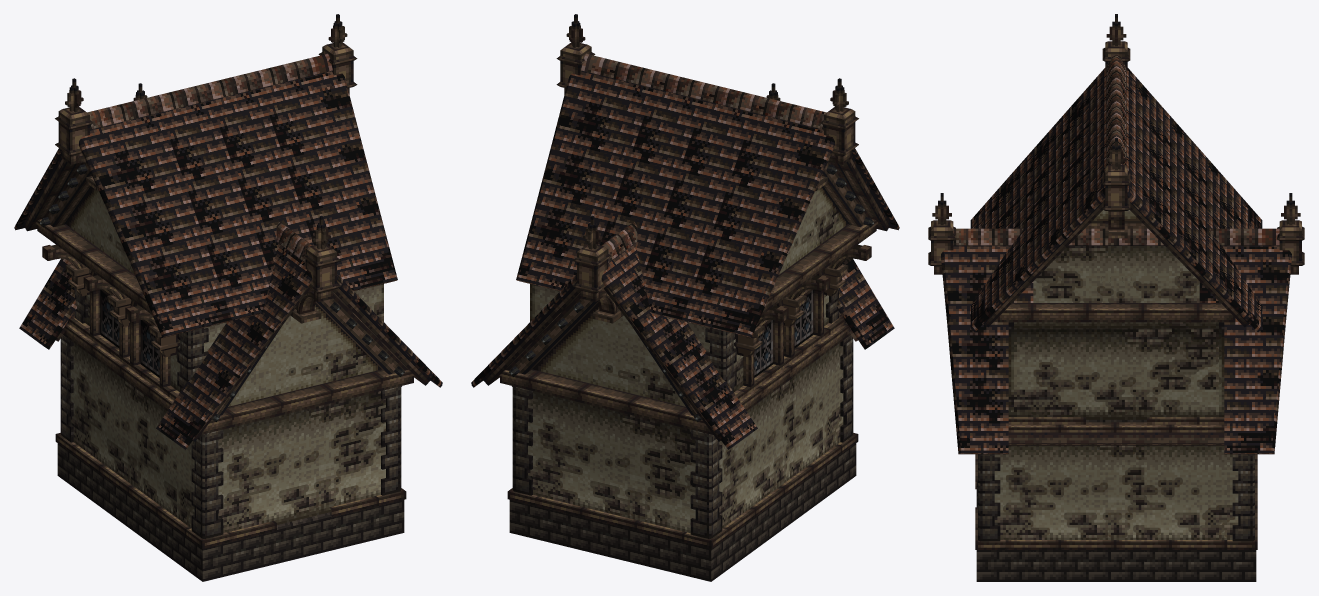
File: EnvBdgMD_City_D_Outdoor_Inn_A.FBX
3 renders of one model, left to right at view 1: azimuth 30°, elevation 25°; view 2: azimuth 150°, elevation 25°; view 3: azimuth 270°, elevation 25°, orthographic. The views are drawn at different scales.
Parts seen in each view (by area): view 1: EnvBdgMD_City_D_Outdoor_Inn_A; view 2: EnvBdgMD_City_D_Outdoor_Inn_A; view 3: EnvBdgMD_City_D_Outdoor_Inn_A.
Part boxes in pixels (x1,y1,x2,y2): EnvBdgMD_City_D_Outdoor_Inn_A: (14, 14, 442, 581); EnvBdgMD_City_D_Outdoor_Inn_A: (471, 14, 899, 581); EnvBdgMD_City_D_Outdoor_Inn_A: (928, 14, 1304, 581).
Size of the model in its own units: 604 by 890 by 680.
